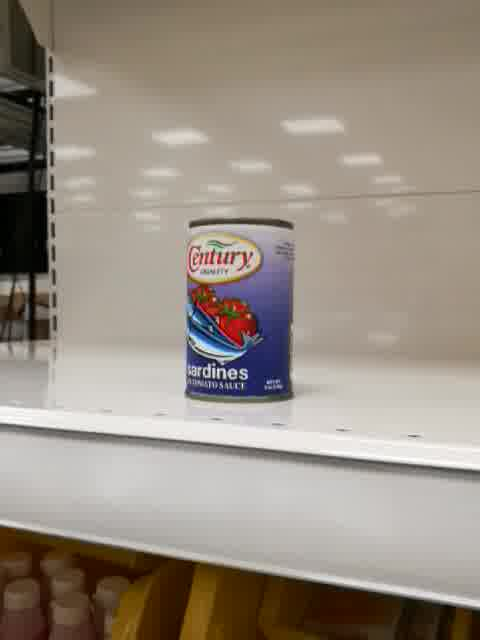sardine: (182, 215, 297, 405)
